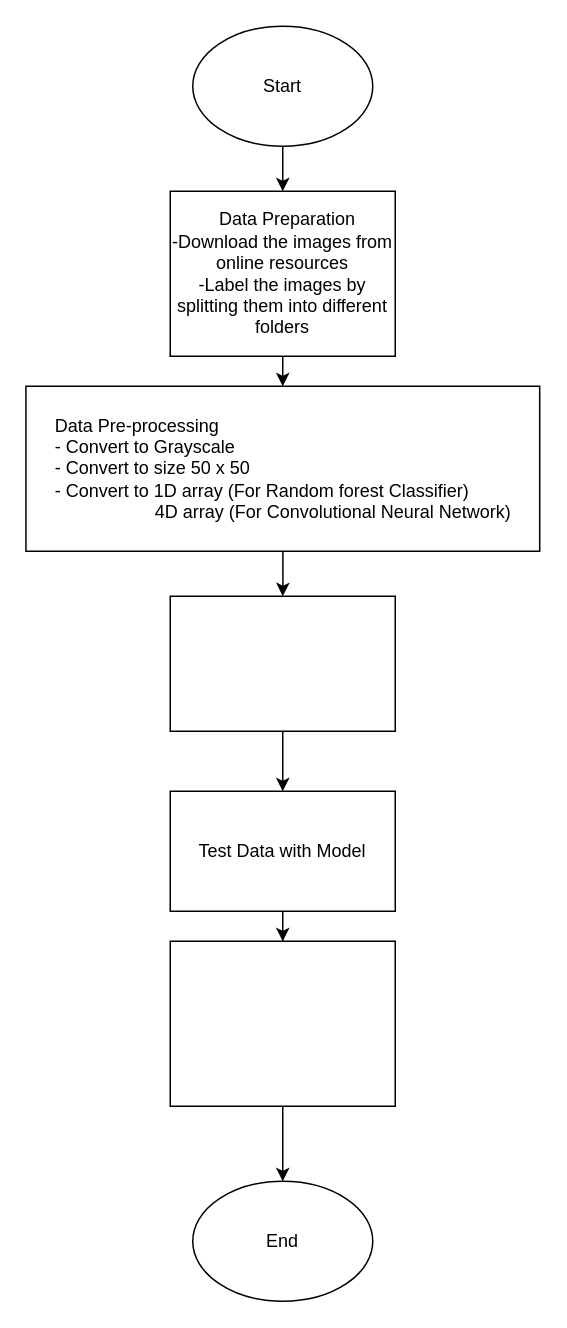
The diagram is 567 pixels wide and 1328 high, and some of its shapes have lost their labels. The shapes that lost their labels are listed below. From the top down, each one's centre as x and y in pixels, then its label:
At pixel 282 663: "Train Data Model".
At pixel 282 1023: "Evaluate Classification Performance - Using accuracy, losses and graph".
